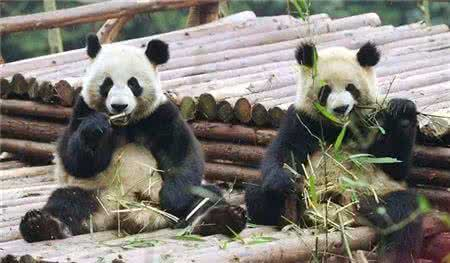panda: (20, 32, 243, 247), (251, 40, 448, 260)
